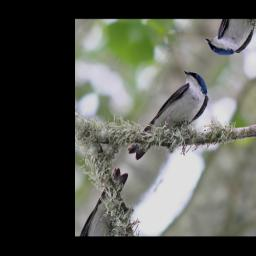Swallow: (123, 61, 220, 179)
